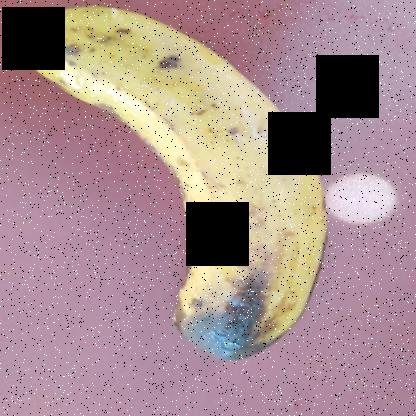rotten: (0, 10, 357, 371)
